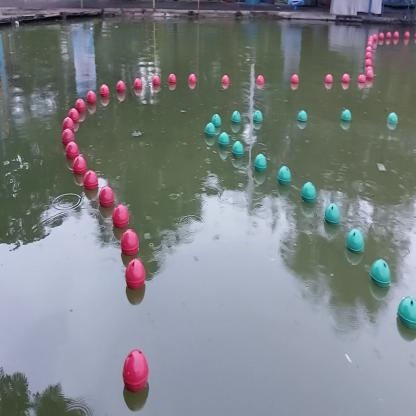green_buoy: (343, 218, 367, 260), (370, 253, 393, 296), (396, 290, 416, 338), (300, 171, 319, 211), (276, 159, 294, 193), (324, 200, 341, 228), (253, 150, 268, 176), (216, 130, 231, 152), (295, 106, 310, 127), (232, 140, 246, 162), (230, 106, 243, 128), (386, 109, 399, 129), (340, 106, 352, 126), (252, 106, 263, 127), (212, 109, 222, 130), (205, 120, 216, 139)
red_buoy: (118, 341, 152, 396), (123, 253, 149, 296), (116, 226, 144, 260), (111, 198, 132, 235), (66, 156, 92, 176), (98, 184, 115, 211), (80, 87, 100, 109), (83, 168, 99, 195), (59, 127, 77, 148), (114, 74, 128, 100), (61, 112, 76, 136), (97, 81, 112, 104), (186, 68, 201, 90), (130, 74, 144, 96), (74, 94, 88, 116), (68, 104, 81, 127), (150, 68, 163, 90), (66, 143, 80, 162), (168, 68, 180, 88), (220, 72, 233, 89), (341, 70, 351, 87), (255, 72, 265, 89), (324, 70, 334, 86), (290, 72, 299, 86), (358, 72, 366, 84)
